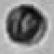correct: (4, 2, 47, 48)
